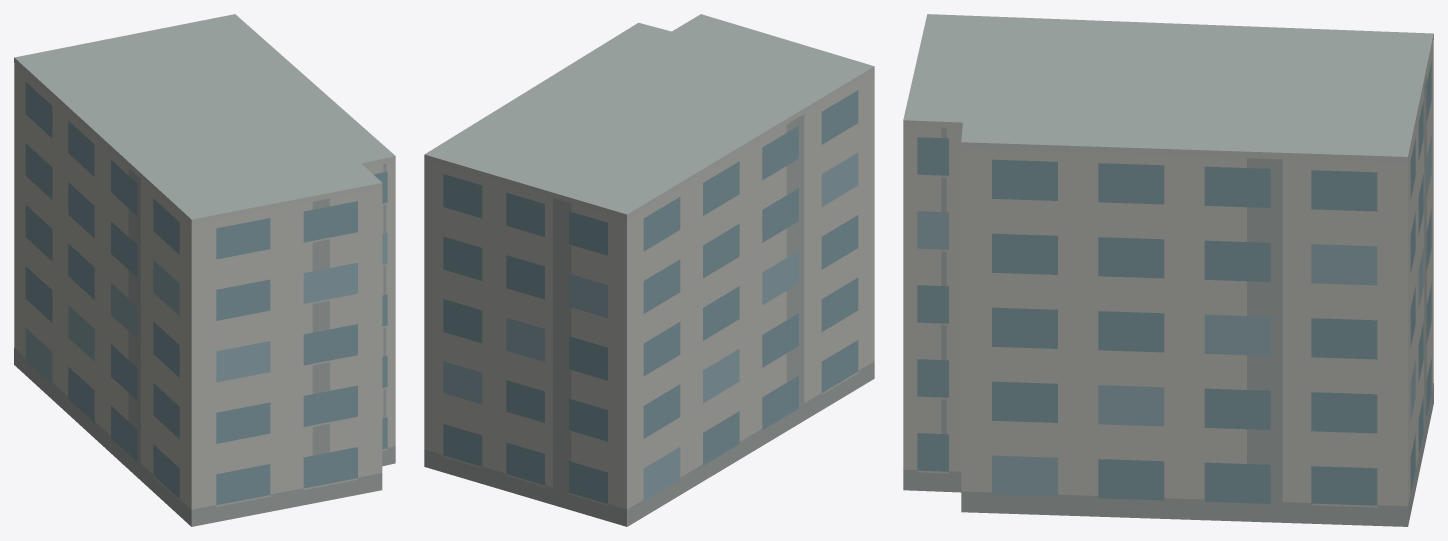
File: survey-upis-32764710.glb
3 renders of one model, left to right at view 1: azimuth 30°, elevation 25°; view 2: azimuth 150°, elevation 25°; view 3: azimuth 270°, elevation 25°, orthographic. The views are drawn at different scales.
Parts seen in each view (by area): view 1: survey-upis-32764710.tmp; view 2: survey-upis-32764710.tmp; view 3: survey-upis-32764710.tmp.
Boxes of the visible parts, x1,y1,x2,y2 form: survey-upis-32764710.tmp: (14,14,395,526); survey-upis-32764710.tmp: (424,14,874,526); survey-upis-32764710.tmp: (903,14,1433,526).
Bounding box in the file's own units: 11.36 × 13.7 × 17.82.
